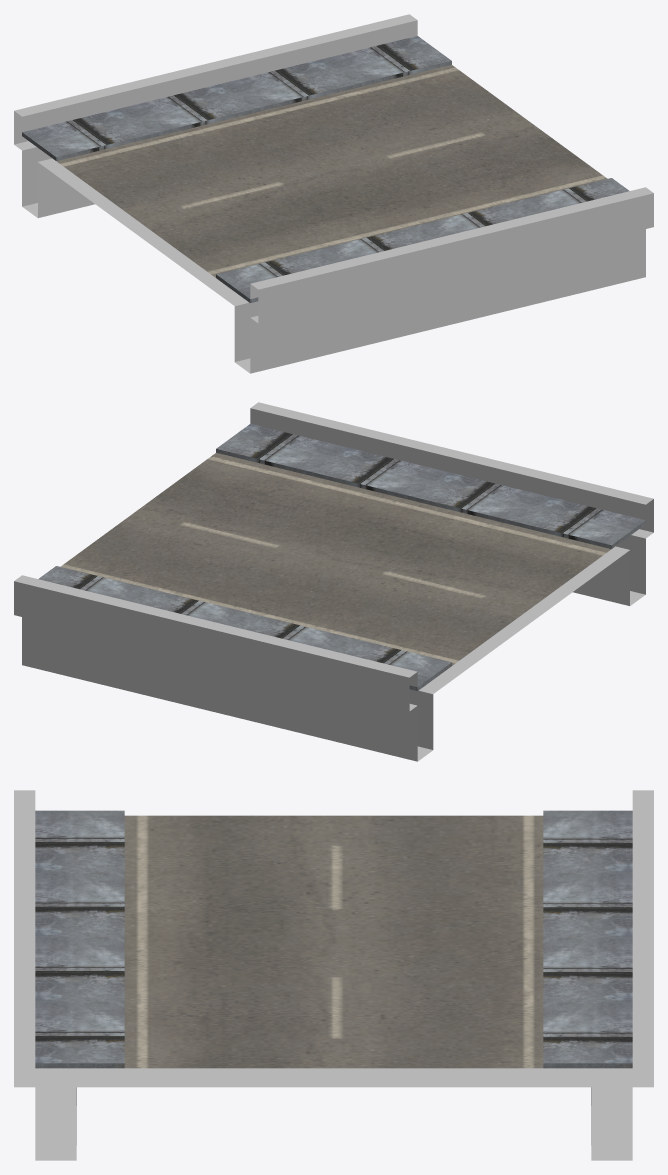
The model's file is Urban_Road4BridgeSegment_Model.fbx.
3 renders of one model, top to bottom at view 1: azimuth 30°, elevation 25°; view 2: azimuth 150°, elevation 25°; view 3: azimuth 270°, elevation 25°, orthographic. The views are drawn at different scales.
Parts seen in each view (by area): view 1: Urban_Road4BridgeSegment_Mesh; view 2: Urban_Road4BridgeSegment_Mesh; view 3: Urban_Road4BridgeSegment_Mesh.
Part boxes in pixels (x1,y1,x2,y2): Urban_Road4BridgeSegment_Mesh: [14, 14, 653, 373]; Urban_Road4BridgeSegment_Mesh: [14, 402, 653, 761]; Urban_Road4BridgeSegment_Mesh: [14, 790, 653, 1160].
Bounding box in the file's own units: 16 × 3.48 × 17.13.
